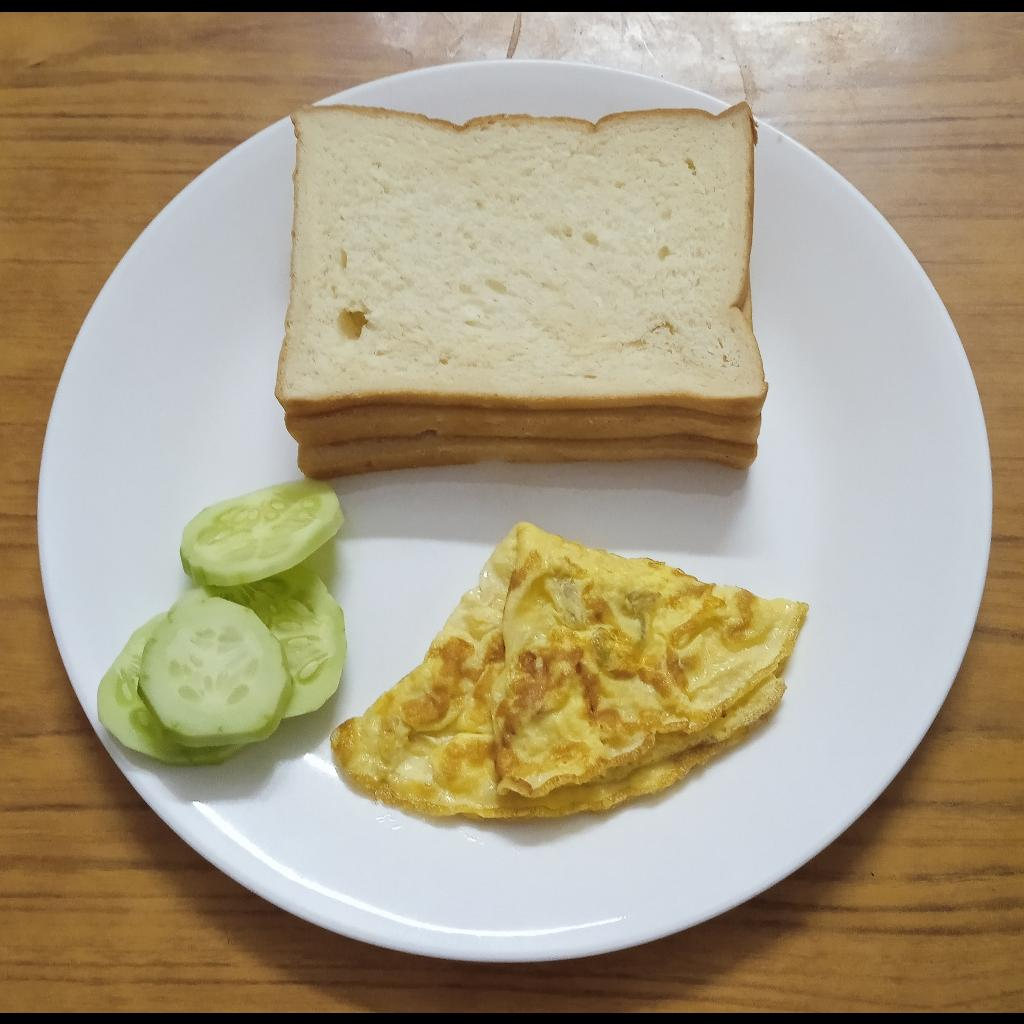bread: (274, 100, 769, 482)
cucumber: (99, 479, 348, 765)
egg-poached: (328, 518, 810, 822)
